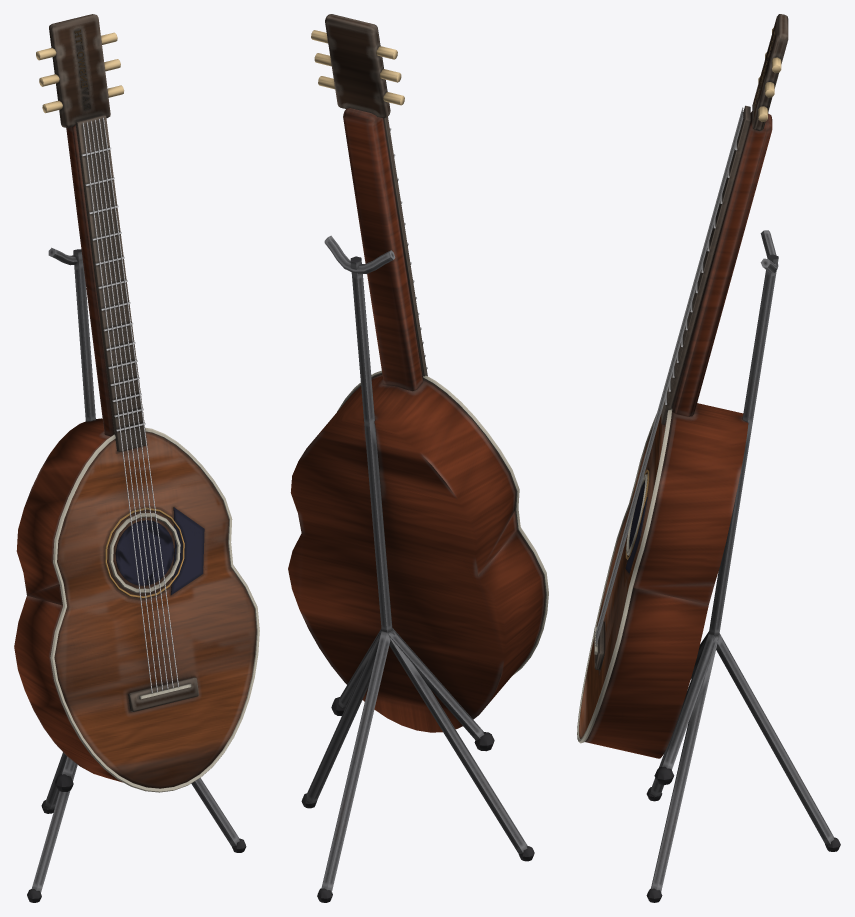
The model's file is GuitarStand.fbx.
3 views of the same model, side by side, from view 1: azimuth 30°, elevation 25°; view 2: azimuth 150°, elevation 25°; view 3: azimuth 270°, elevation 25° (orthographic). The views are drawn at different scales.
Parts seen in each view (by area): view 1: GuitarStand; view 2: GuitarStand; view 3: GuitarStand.
Part boxes in pixels (x1,y1,x2,y2): GuitarStand: (14,14,259,902); GuitarStand: (288,14,548,902); GuitarStand: (577,14,840,902).
Bounding box in the file's own units: 129 × 461 × 133.
